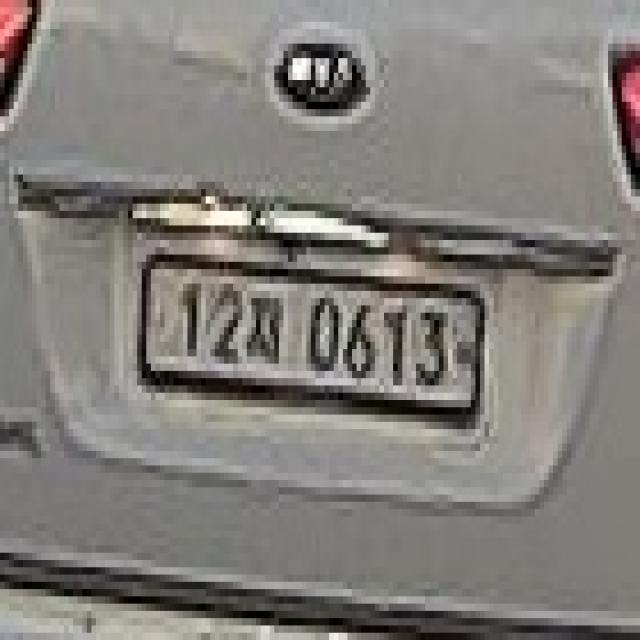0: (302, 291, 343, 385)
1: (379, 291, 416, 393), (173, 276, 206, 356)
2: (210, 276, 242, 364)
3: (412, 298, 452, 393)
6: (343, 291, 379, 385)
jeo: (247, 284, 288, 378)
license_plate: (133, 248, 489, 437)
